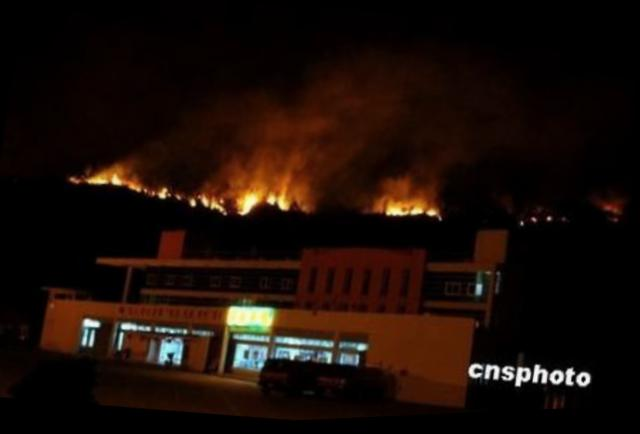fire: (72, 138, 321, 227), (369, 184, 449, 224)
